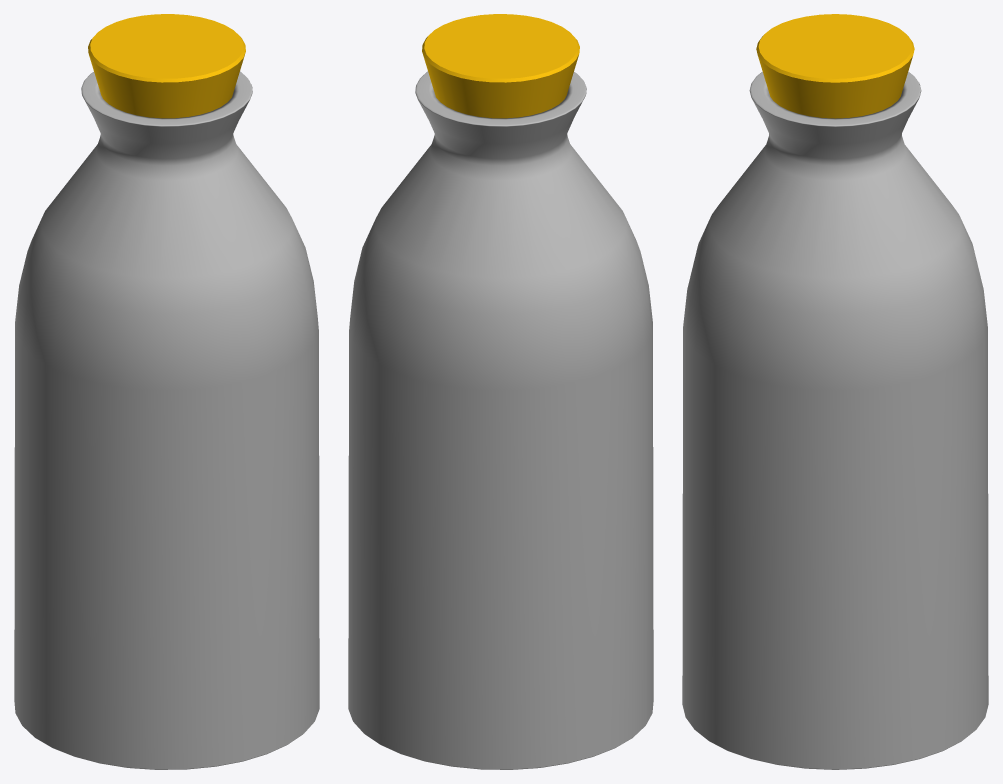
The model's file is inkBottle_2.fbx.
3 views of the same model, side by side, from view 1: azimuth 30°, elevation 25°; view 2: azimuth 150°, elevation 25°; view 3: azimuth 270°, elevation 25° (orthographic).
Visible parts, largest first — view 1: polySurface5, polySurface6; view 2: polySurface5, polySurface6; view 3: polySurface5, polySurface6.
Boxes of the visible parts, bbox=[...] form: polySurface5: bbox=[14, 71, 319, 769]; polySurface6: bbox=[88, 14, 245, 118]; polySurface5: bbox=[348, 71, 653, 769]; polySurface6: bbox=[422, 14, 579, 118]; polySurface5: bbox=[682, 72, 988, 769]; polySurface6: bbox=[756, 14, 914, 118].
Size of the model in its own units: 226 by 226 by 539.
